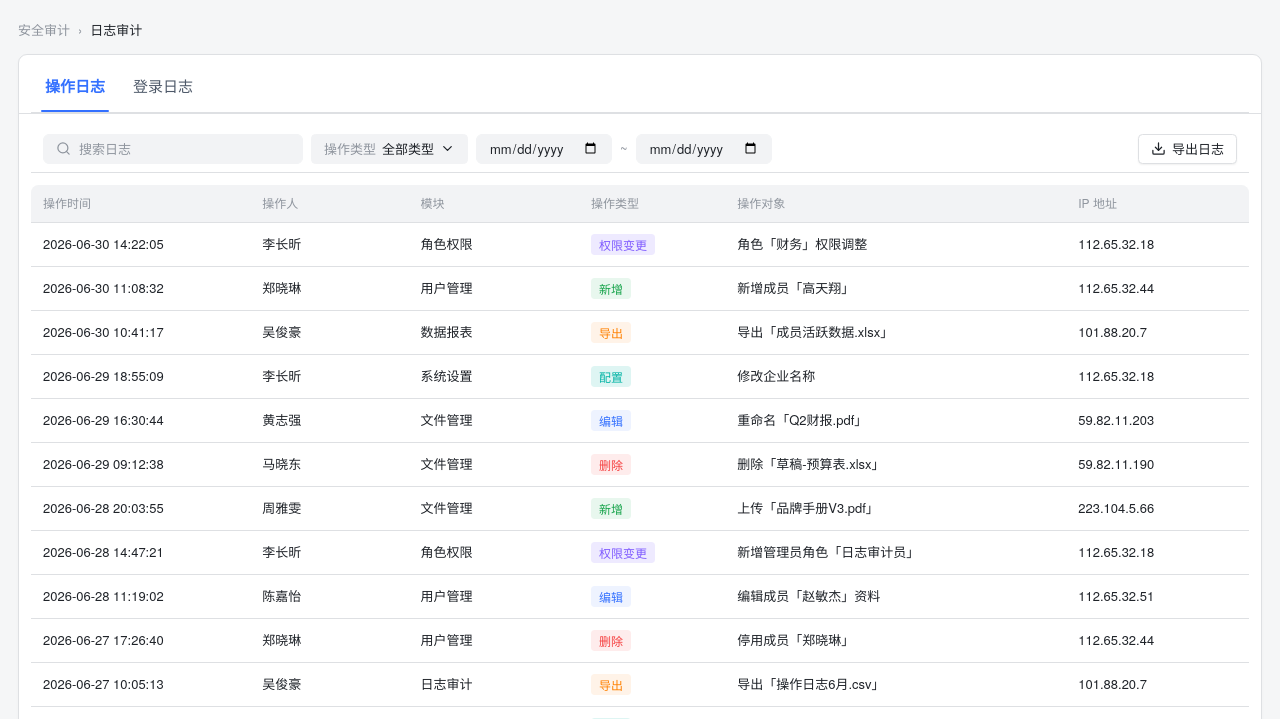
默认展示操作日志并可搜索与按类型筛选
Expected: the text "角色「财务」权限调整" is shown, [725,222,1066,266]
Type "品牌手册" into the search field labelled "搜索日志" at (184, 149), box [79,139,290,158]
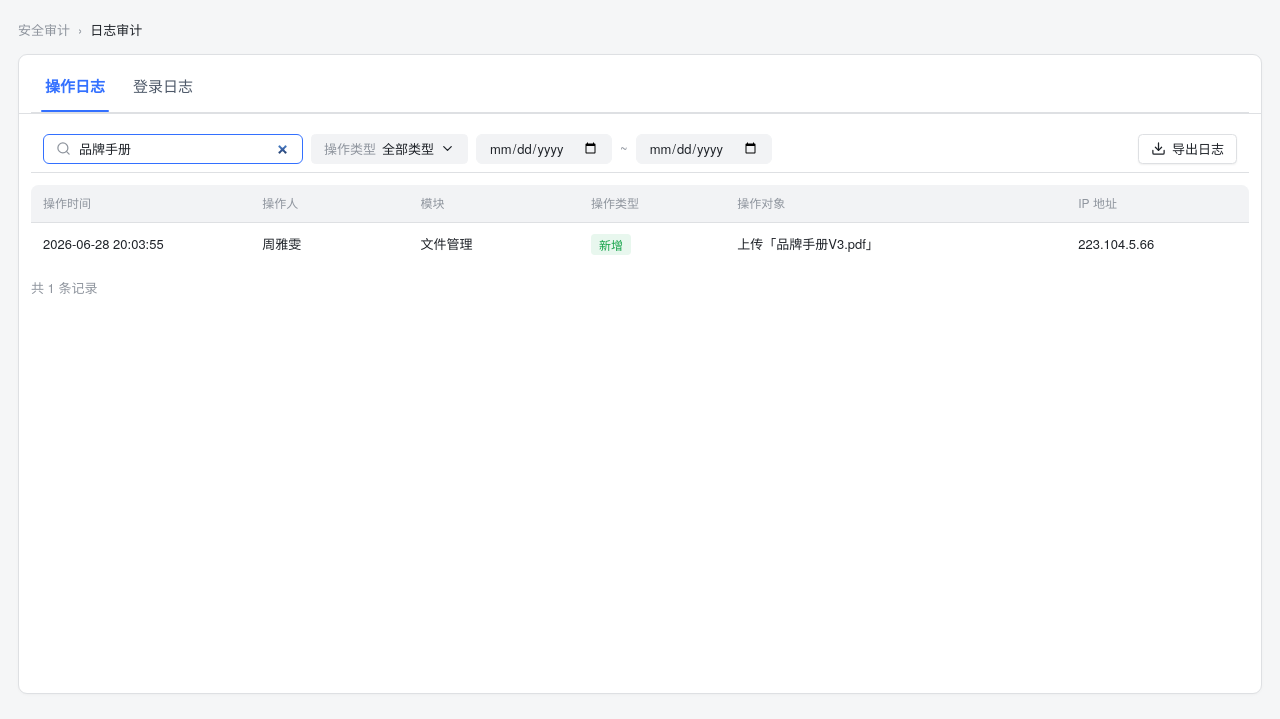
Expected: the text "上传「品牌手册V3.pdf」" is shown, [725,222,1066,266]
Expected: the text "角色「财务」权限调整" is gone
Clear the search field named "搜索日志" at (184, 149), box [79,139,290,158]
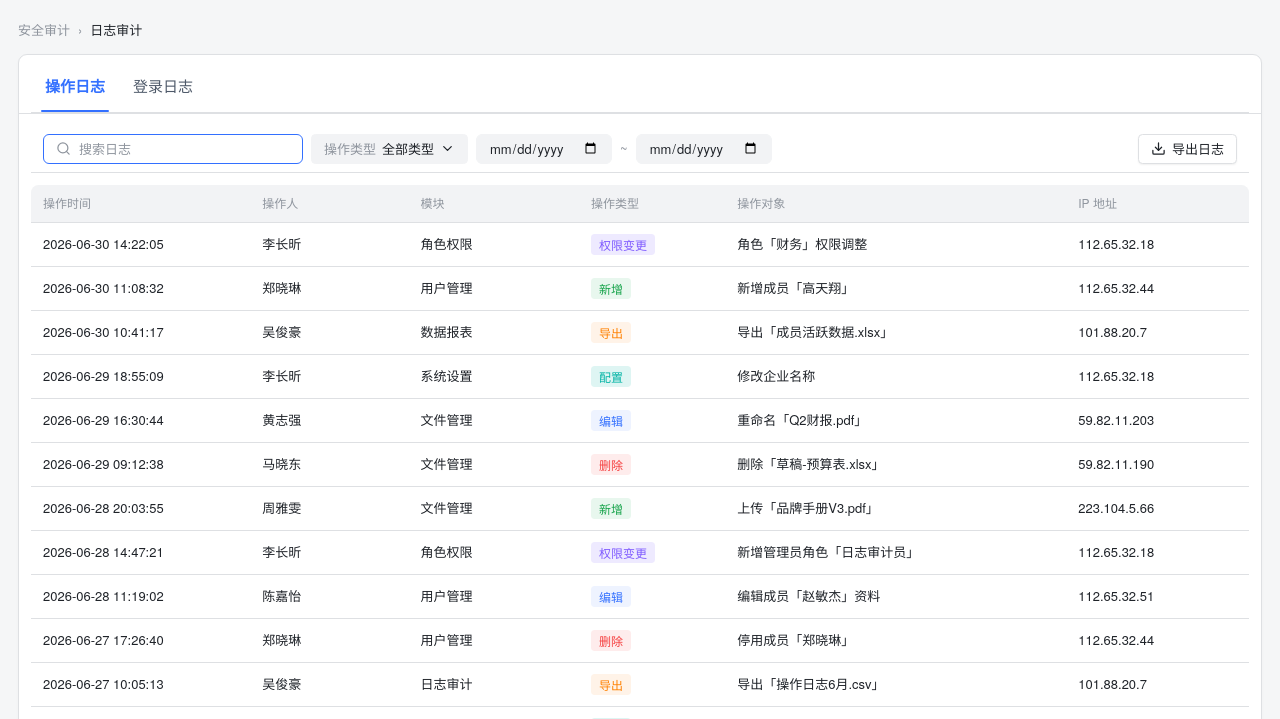
Click the button "操作类型 全部类型" at (390, 148), box [311,134,468,164]
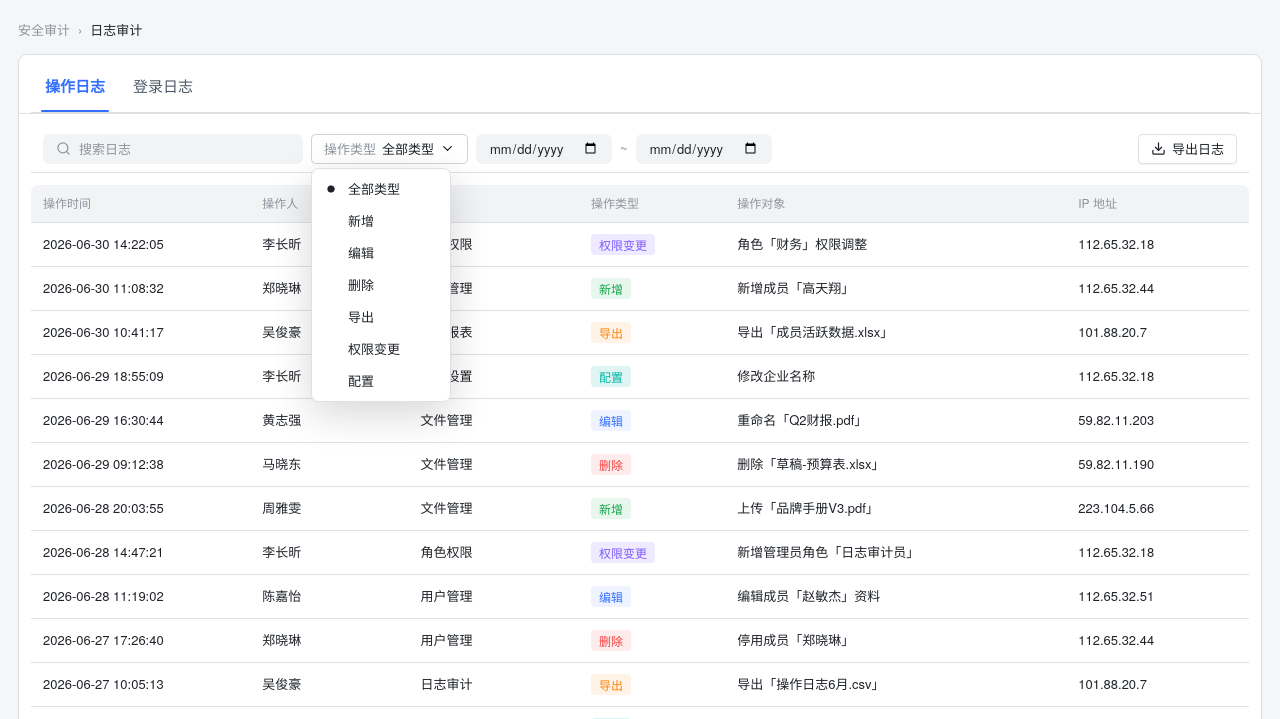
Click the menu item "删除" at (361, 284), box [348,275,374,294]
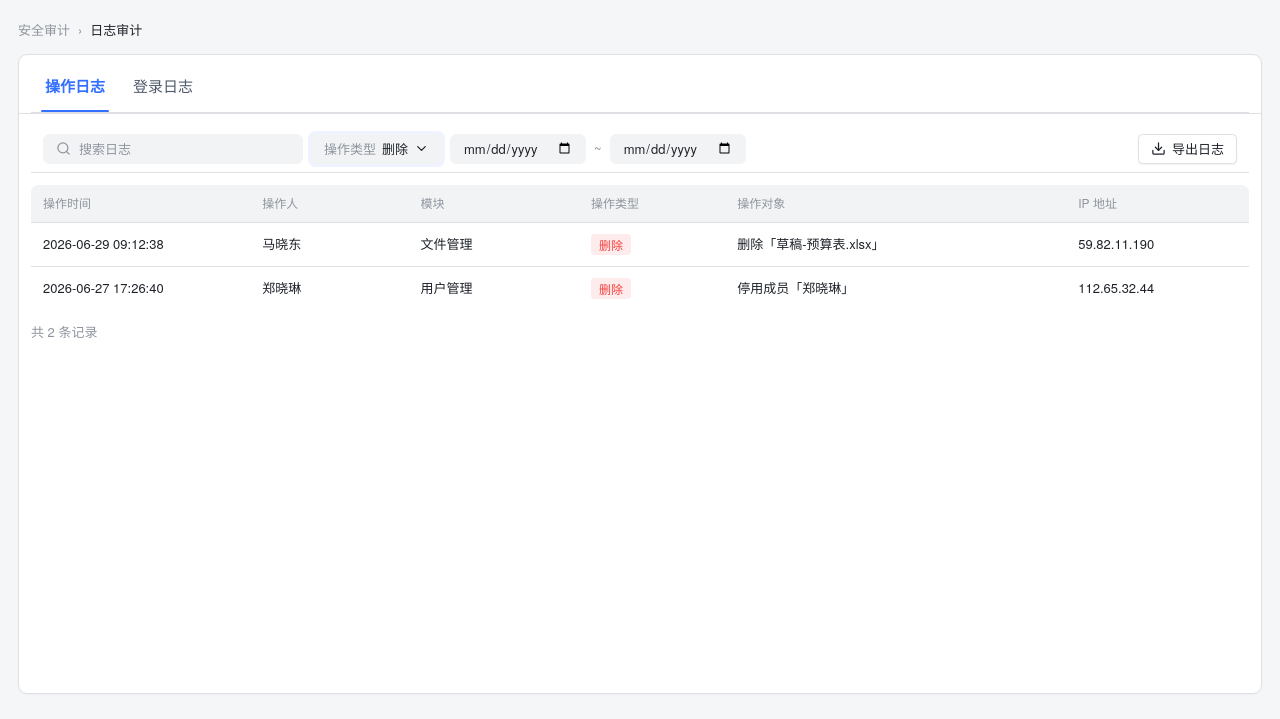
Expected: the text "删除" in the row of "2026-06-29 09:12:38" is shown, [599,236,623,253]
Expected: the text "新增" is gone
